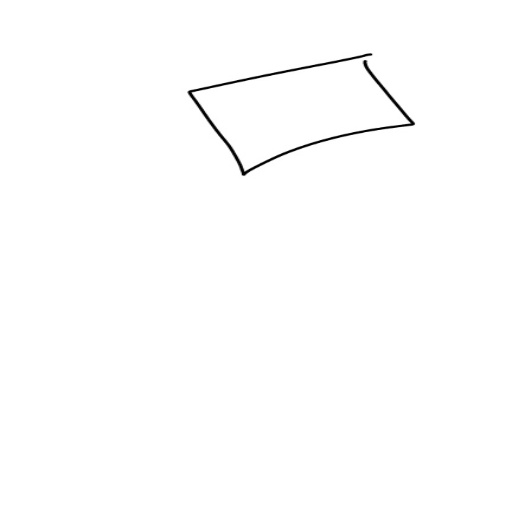rectangle: (165, 28, 418, 281)
